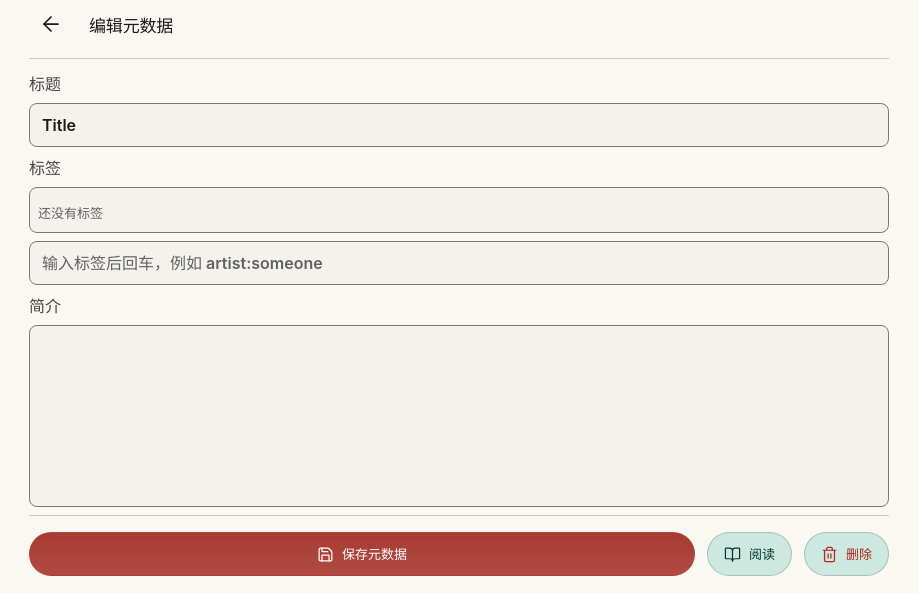
metadata editor tags › adds a suggested tag without the exact-query suffix
Later steps or results of the test are not shown.
Step 1. Type "gla" into the dropdown with placeholder "输入标签后回车，例如 artist:someone" → [459, 263], box top-left (29, 241), bottom-right (889, 285)
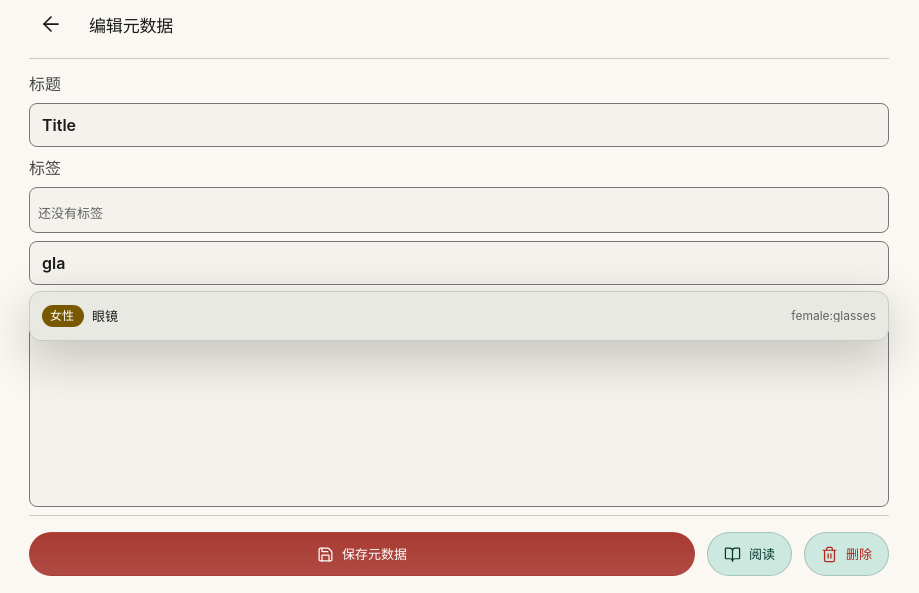
Expected: the option shows "female:glasses", top-left (34, 296), bottom-right (884, 336)
